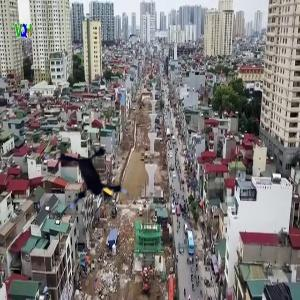drone: (31, 129, 139, 237)
